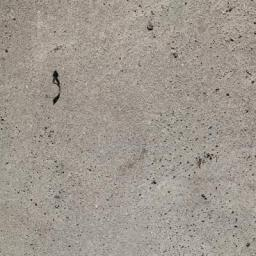FOD: (49, 69, 64, 109)
